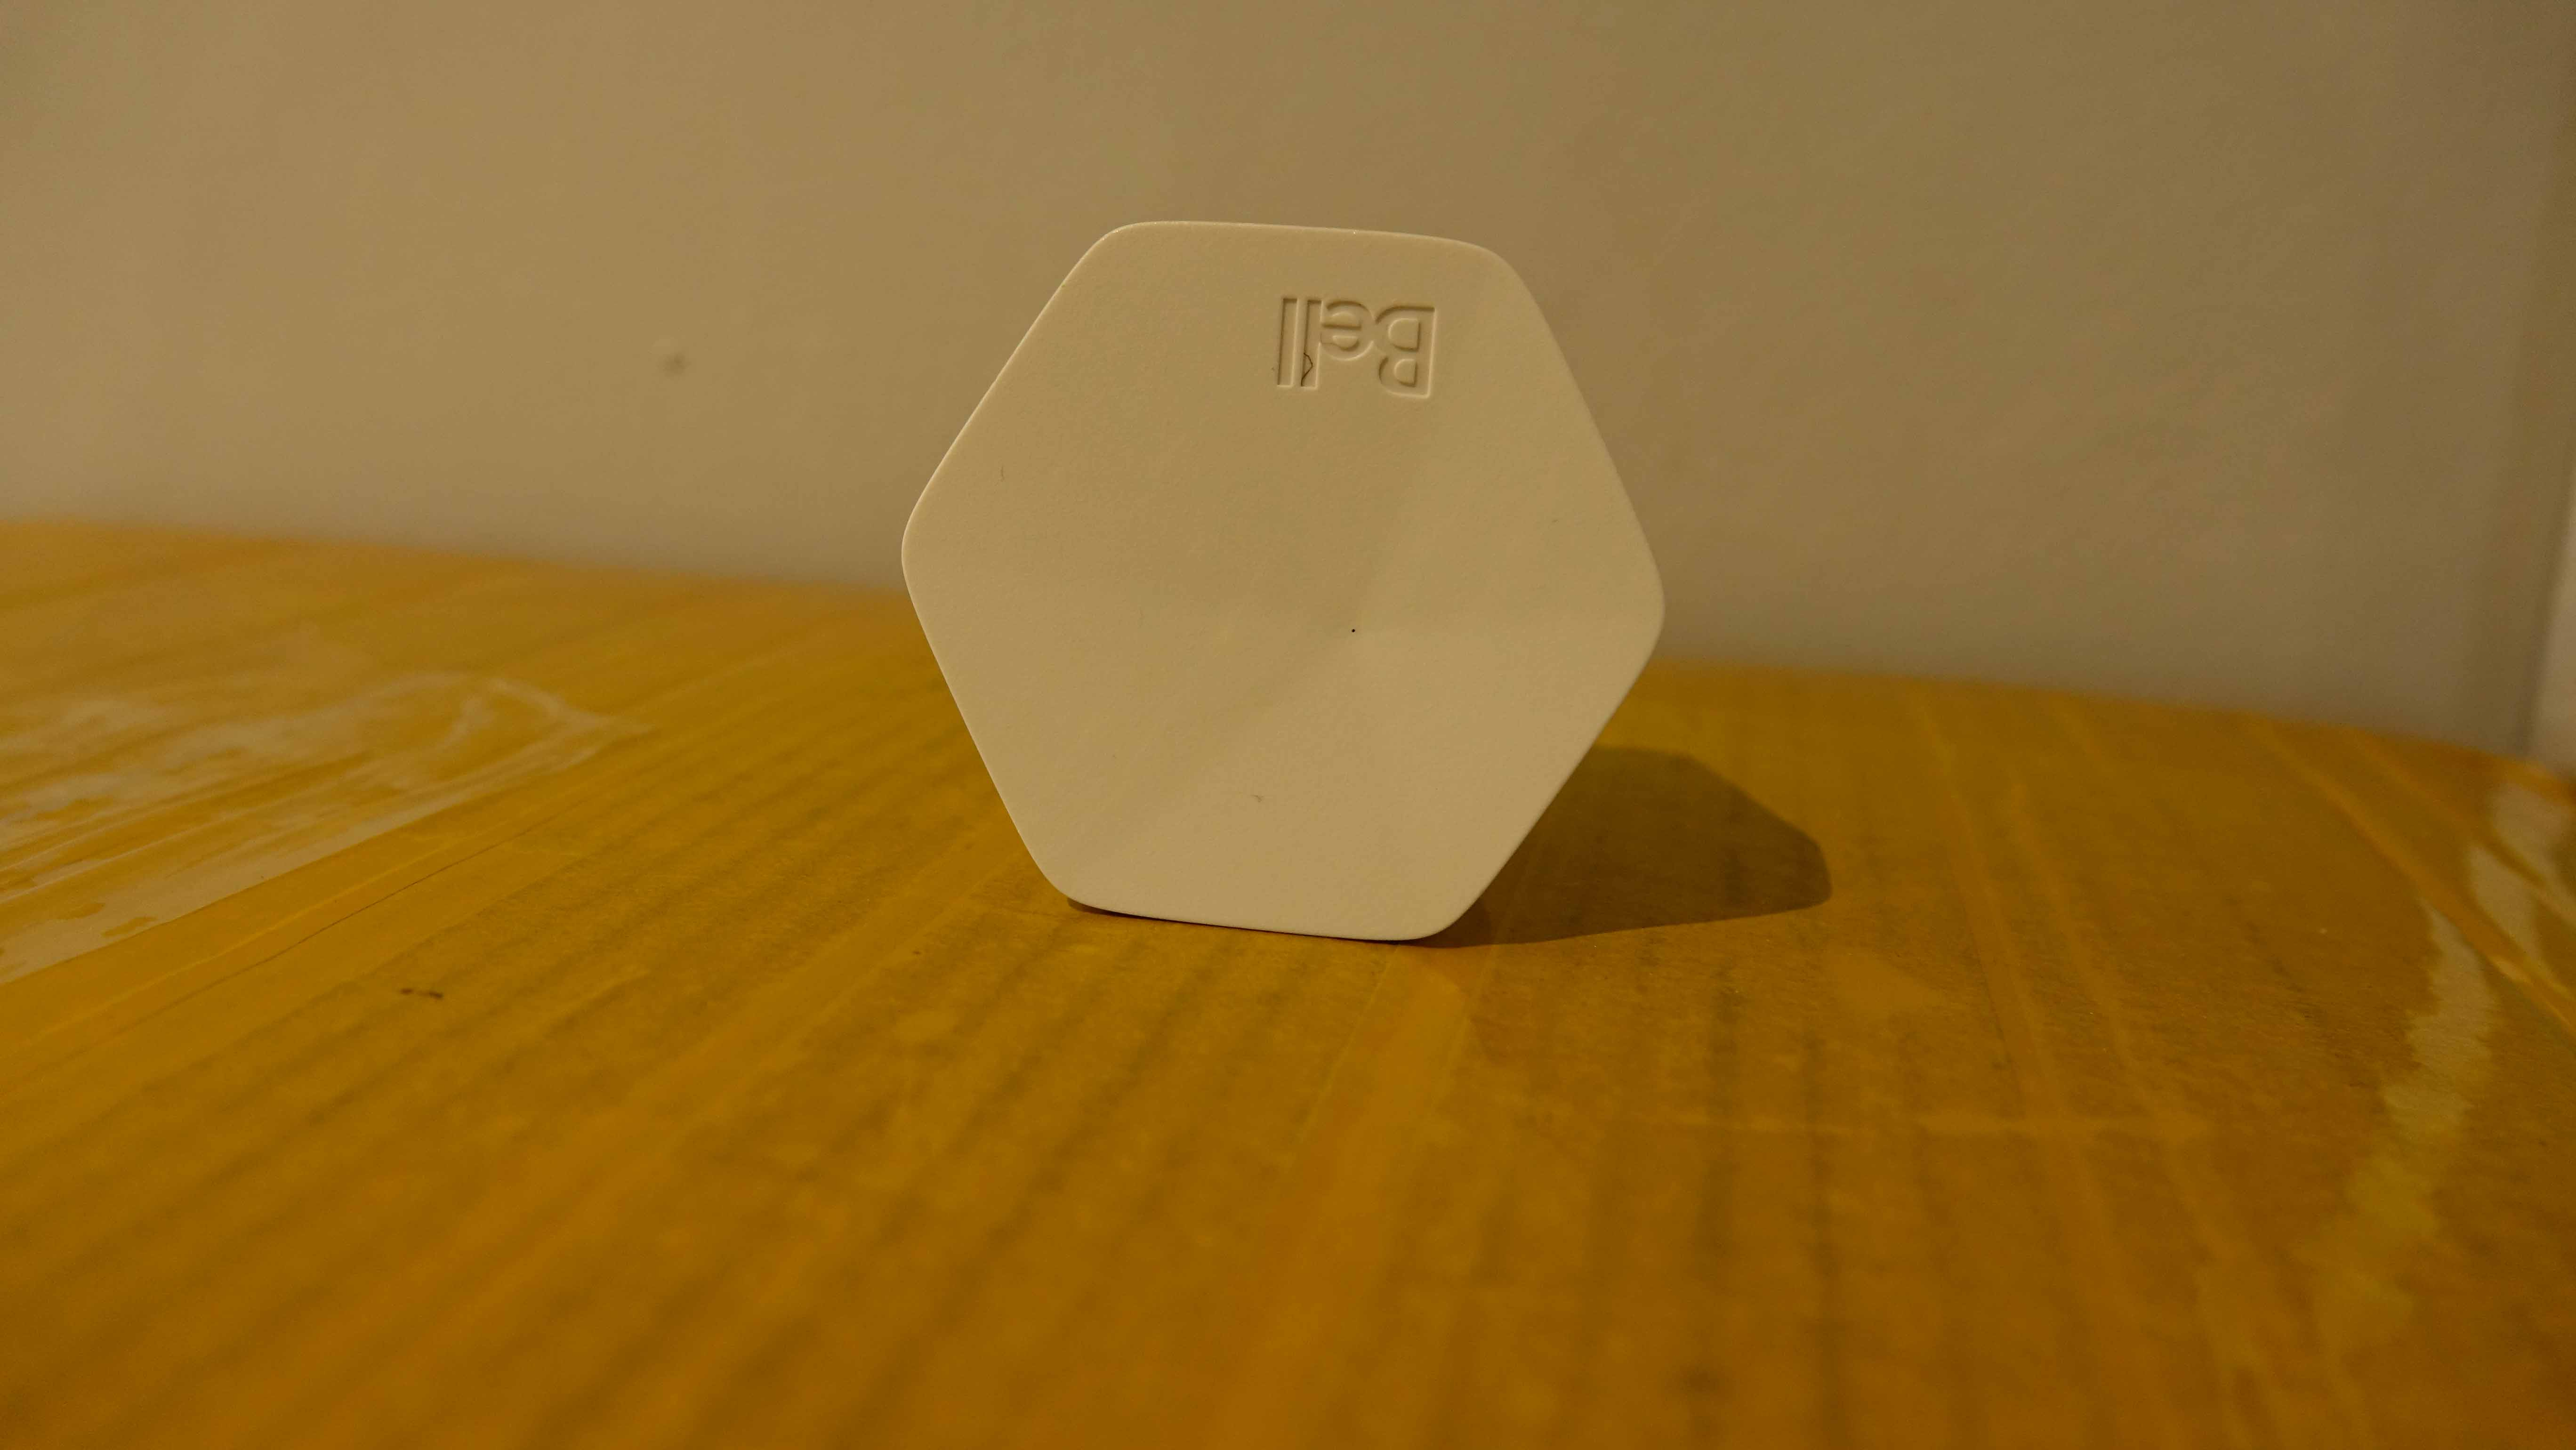pod: (899, 200, 1684, 985)
